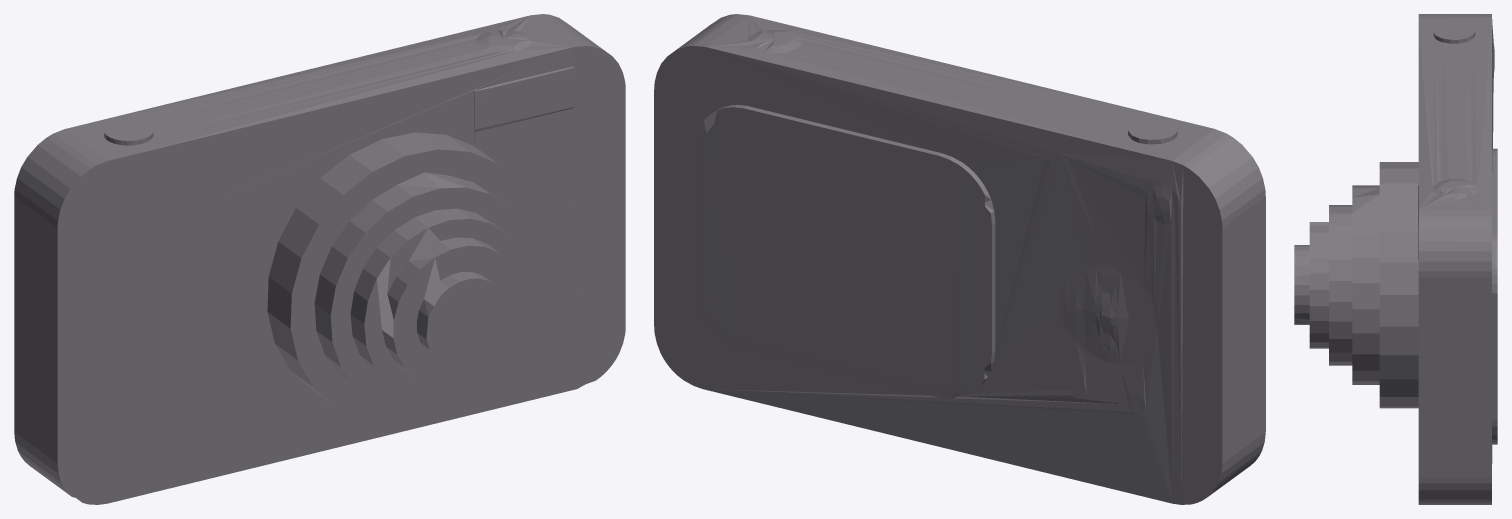
The model's file is model_align.obj.
3 views of the same model, side by side, from view 1: azimuth 30°, elevation 25°; view 2: azimuth 150°, elevation 25°; view 3: azimuth 270°, elevation 25° (orthographic). The views are drawn at different scales.
Size of the model in its own units: 0.1296 by 0.0757 by 0.0477.
